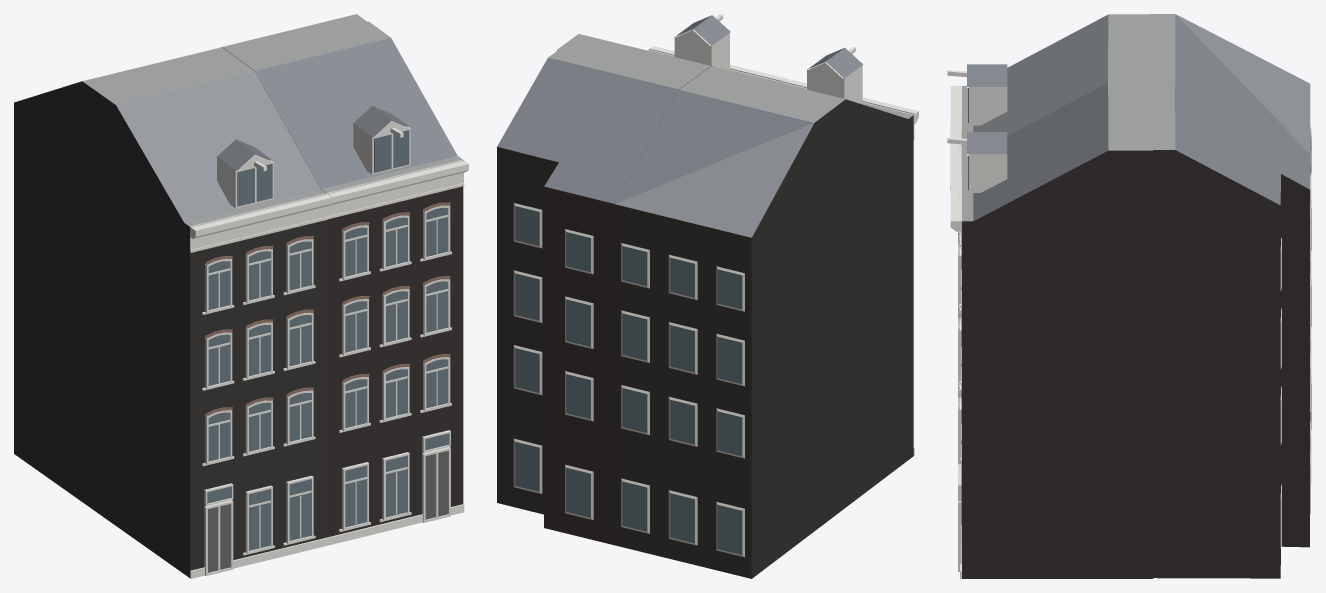
Rendered from chunk-face-heijden-2-40-r1.glb.
The picture shows the model from 3 angles, left to right: view 1: azimuth 30°, elevation 25°; view 2: azimuth 150°, elevation 25°; view 3: azimuth 270°, elevation 25°; orthographic projection. The views are drawn at different scales.
Visible parts, largest first — view 1: face-heijden-2-40-r1; view 2: face-heijden-2-40-r1; view 3: face-heijden-2-40-r1.
Part boxes in pixels (x1,y1,x2,y2): face-heijden-2-40-r1: (14,14,468,578); face-heijden-2-40-r1: (497,14,918,578); face-heijden-2-40-r1: (947,14,1311,578).
Bounding box in the file's own units: 11.49 × 16.63 × 12.82.
